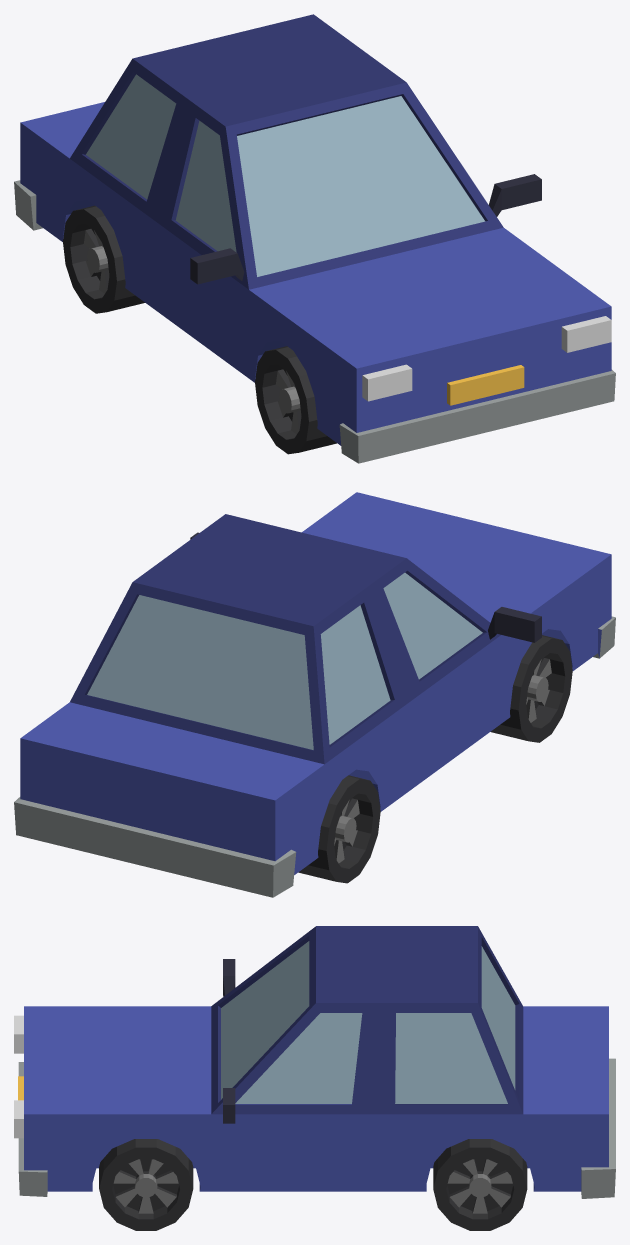
The model's file is car.fbx.
3 renders of one model, top to bottom at view 1: azimuth 30°, elevation 25°; view 2: azimuth 150°, elevation 25°; view 3: azimuth 270°, elevation 25°, orthographic. The views are drawn at different scales.
Visible parts, largest first — view 1: Cube; view 2: Cube; view 3: Cube.
Boxes of the visible parts, left/top/right/bottom form: Cube: left=14, top=14, right=615, bottom=463; Cube: left=14, top=492, right=615, bottom=897; Cube: left=14, top=926, right=615, bottom=1230.
Bounding box in the file's own units: 270 × 181 × 470.
